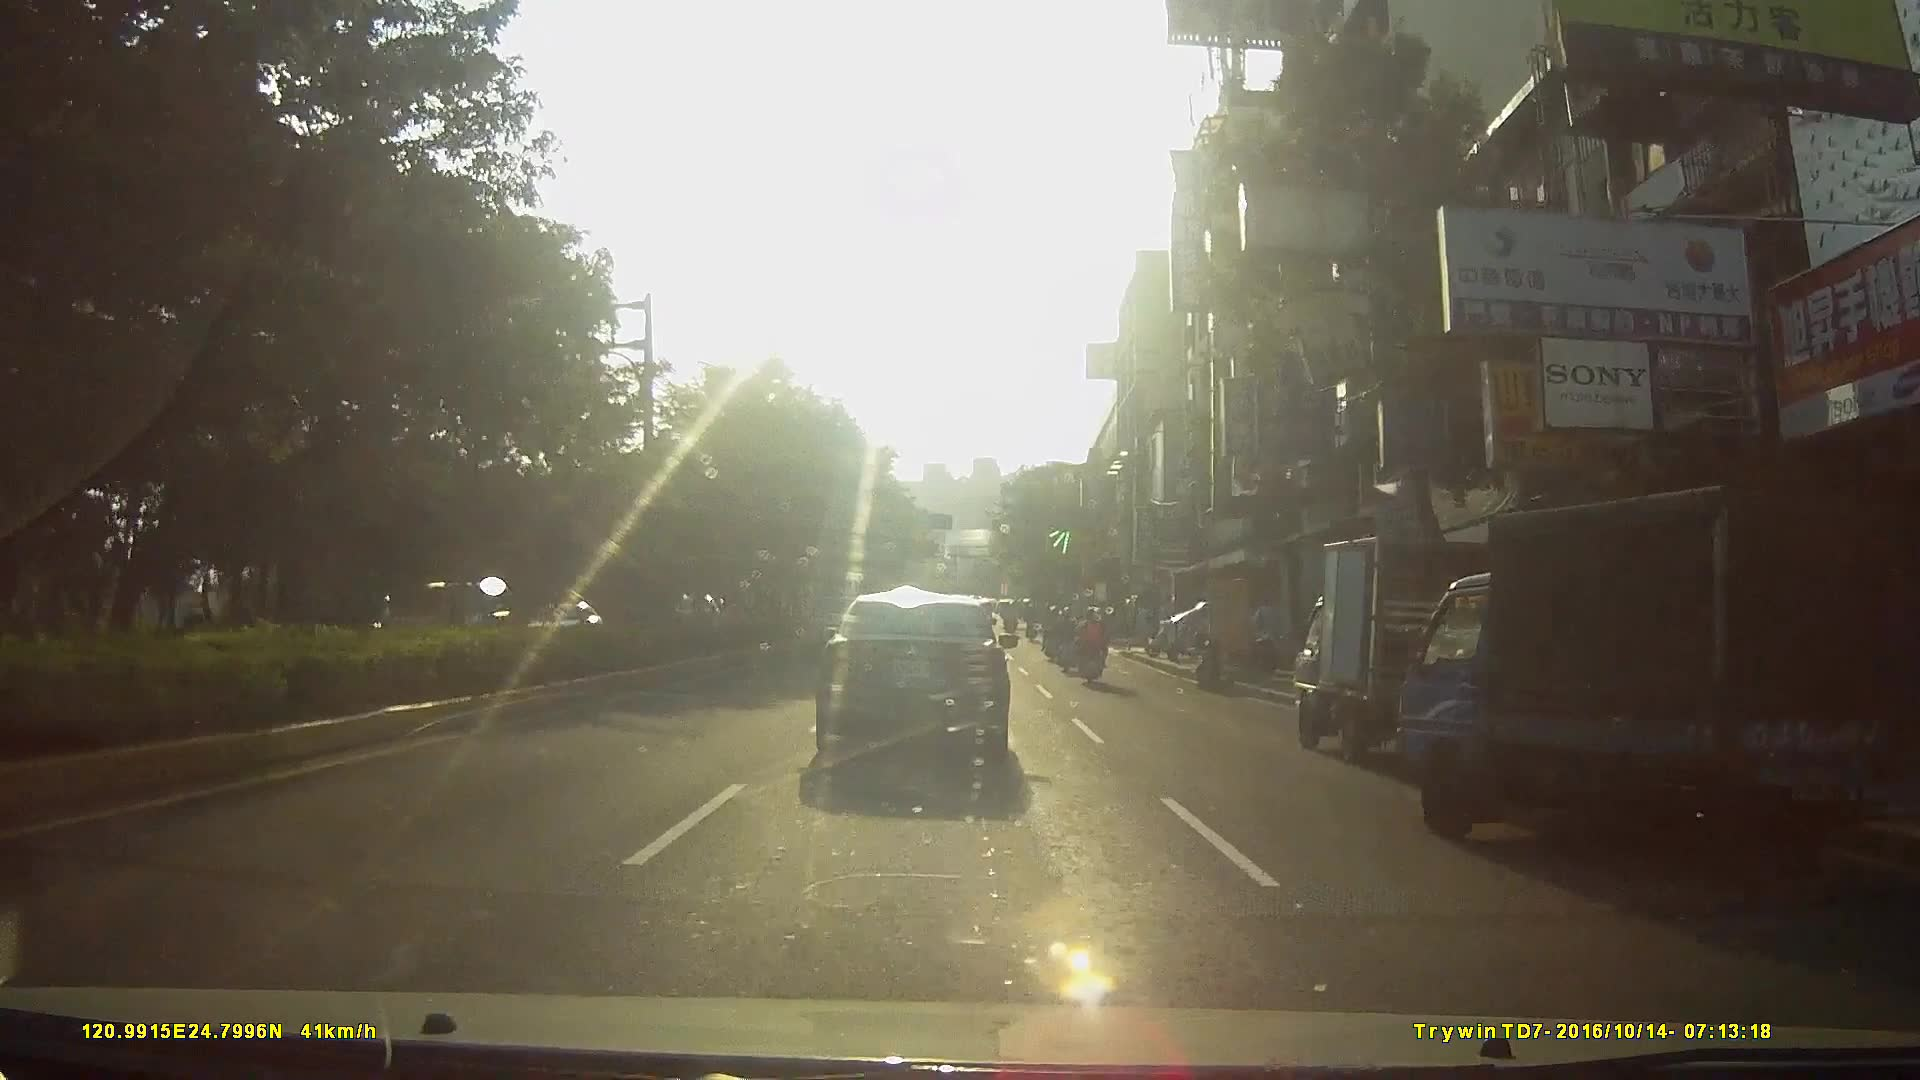rider: (1071, 608, 1112, 686), (1053, 605, 1081, 674), (1043, 606, 1063, 663)
vehicle: (1404, 487, 1896, 901), (1288, 521, 1558, 767), (812, 589, 1028, 787)
